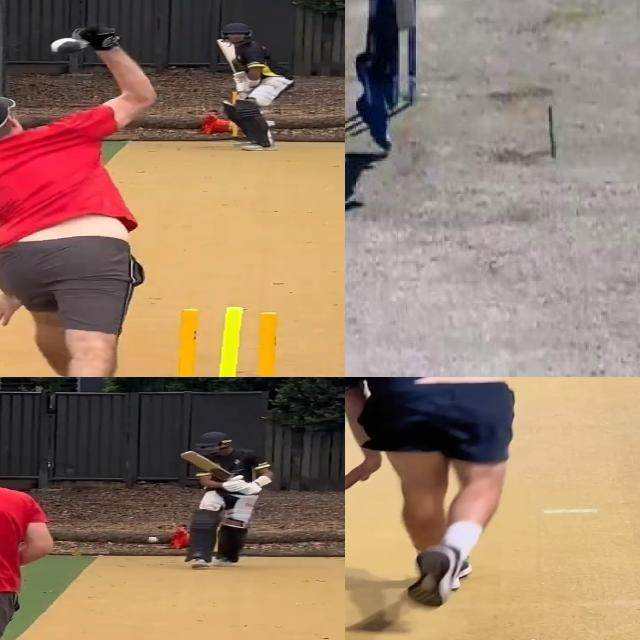Cricket ball: (146, 536, 160, 544)
Stumps: (163, 304, 293, 377)
